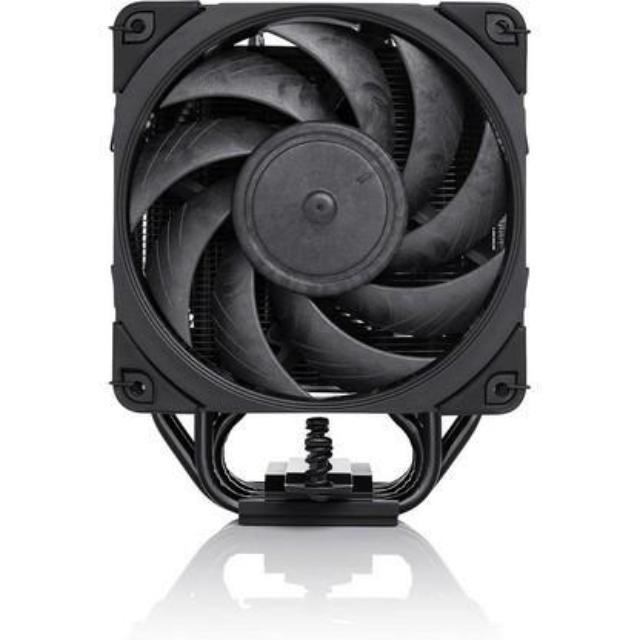CPU_Fan: (114, 1, 528, 526)
